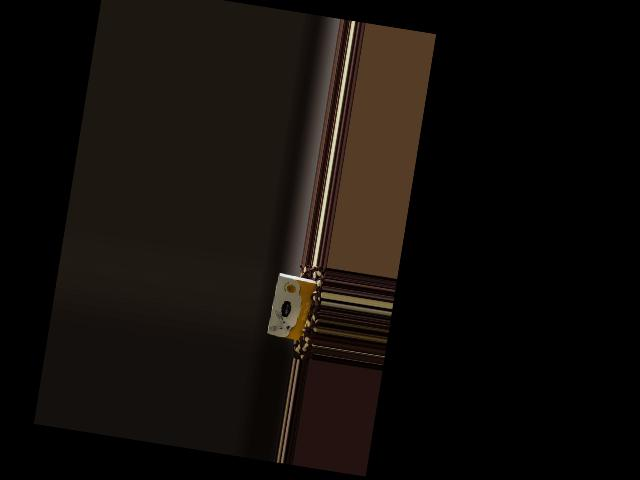chocolate: (264, 269, 319, 346)
